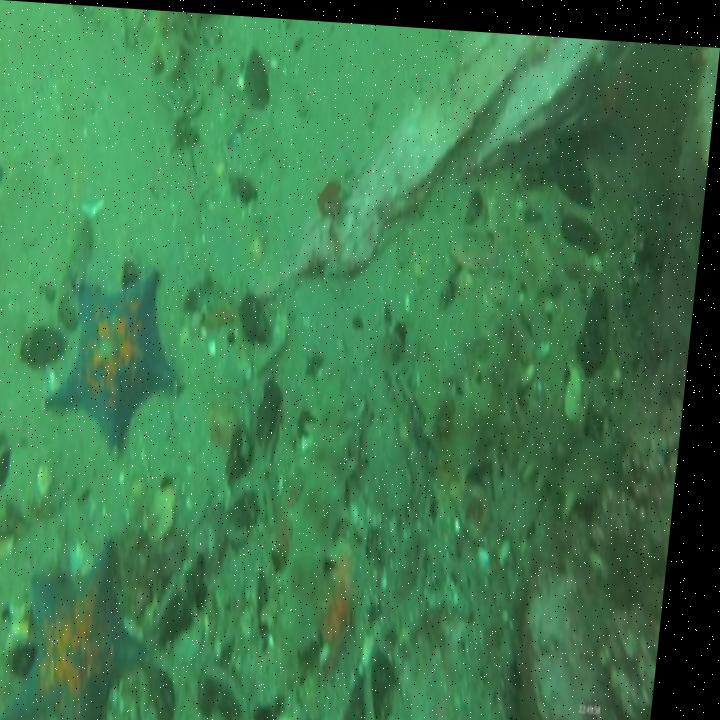holothurian: (278, 369, 379, 667), (412, 255, 546, 479), (519, 376, 641, 517), (145, 8, 207, 89)
starfish: (12, 532, 170, 720), (46, 260, 195, 452), (552, 30, 642, 140)
